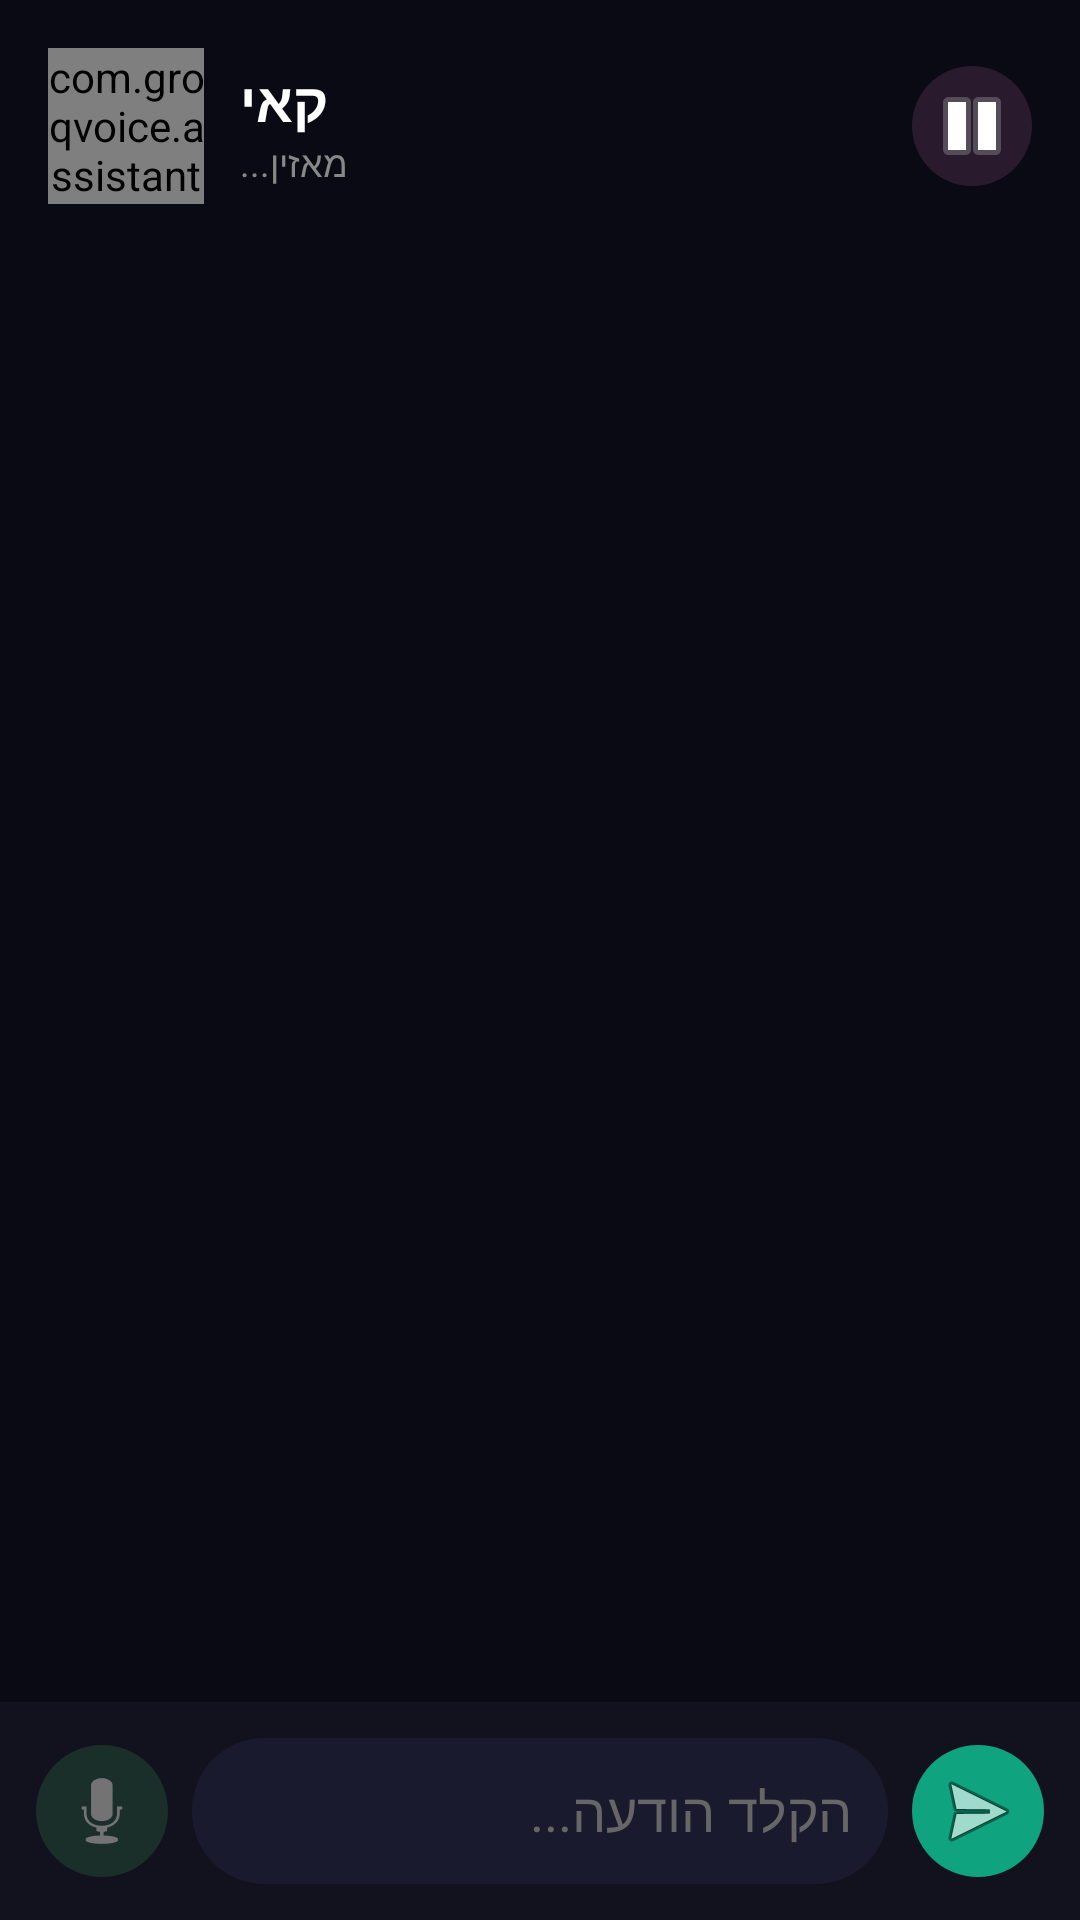

Where icons sit on this 1080x1920 app screen, as bbox(x1, y1, x2, y2):
הקלט: bbox(36, 1745, 168, 1877)
עצור: bbox(912, 66, 1032, 186)
שלח: bbox(912, 1745, 1044, 1877)
